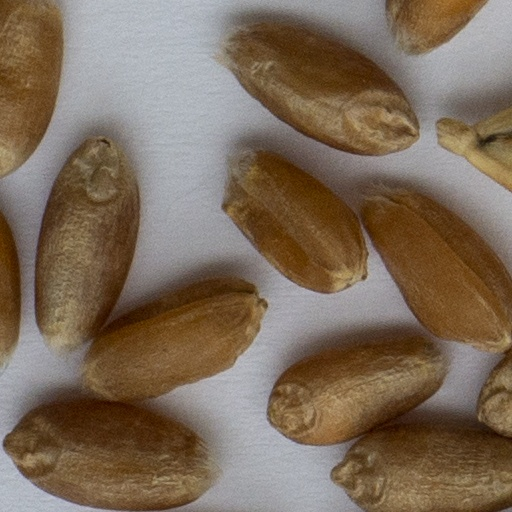Peel-poly: (436, 106, 511, 192)
